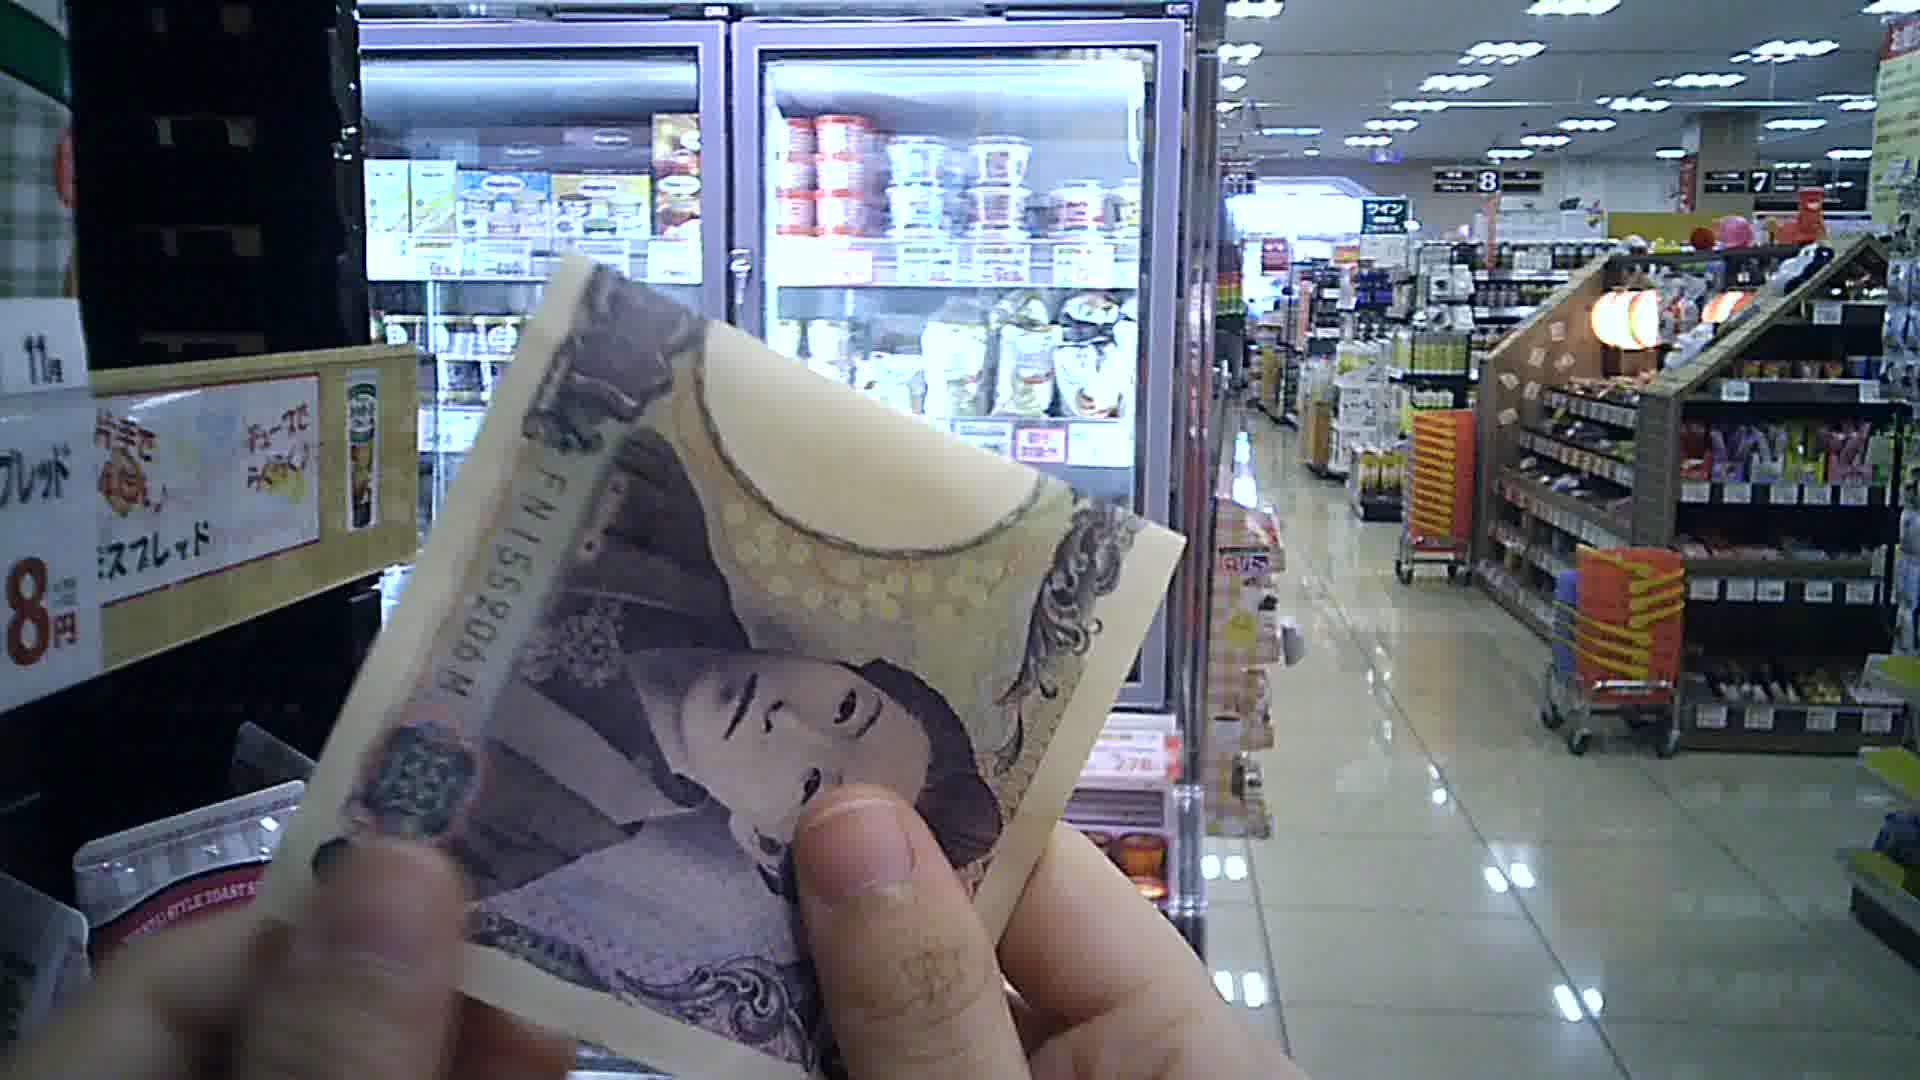5,000 Yen: (303, 247, 1180, 1079)
